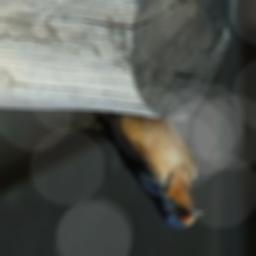Swallow: (49, 112, 206, 230)
